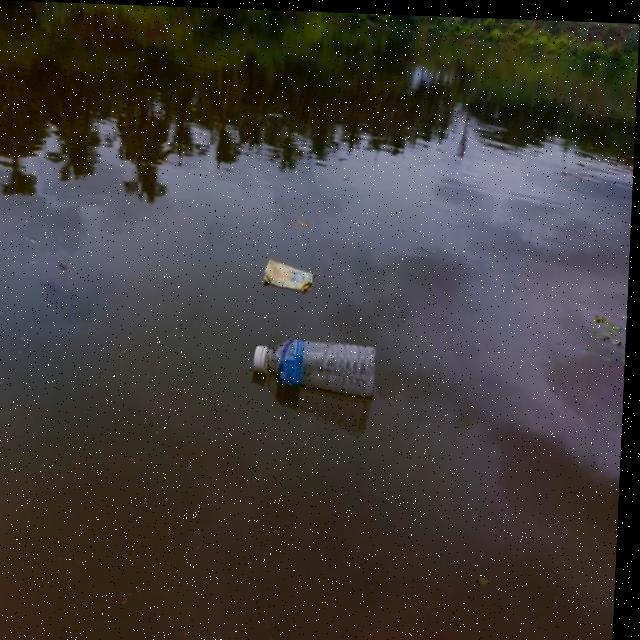paper: (263, 242, 337, 308)
waterbottle: (247, 329, 409, 409)
